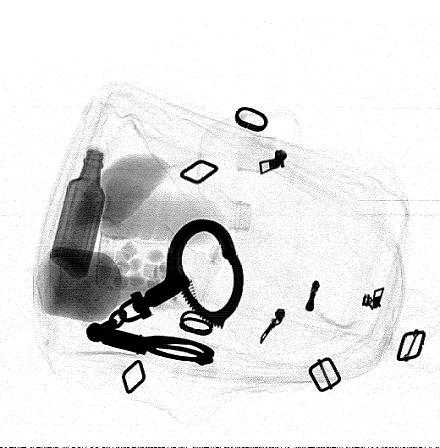HandCuffs: (86, 218, 244, 367)
